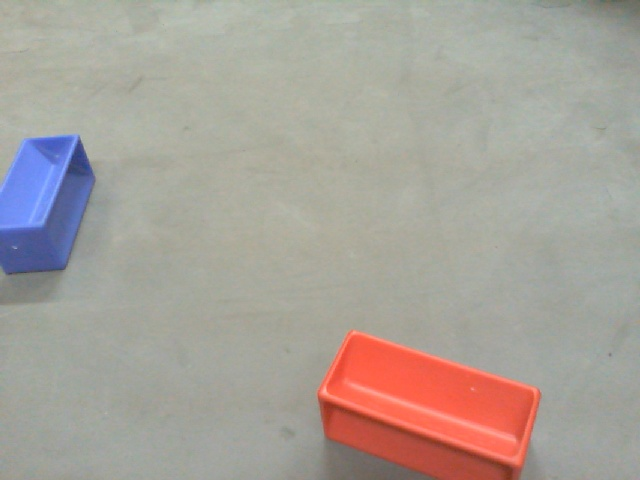BlueSample: (1, 131, 99, 279)
RedSample: (314, 326, 543, 480)
